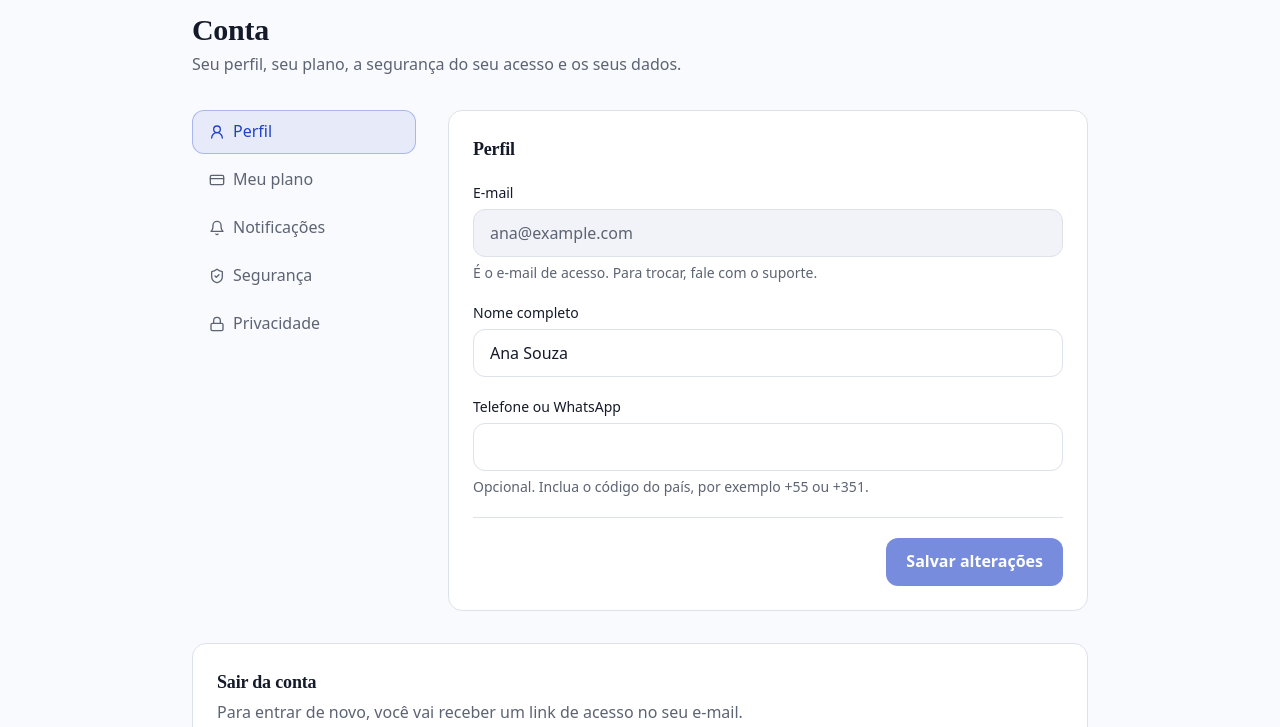
Test: SettingsPage — título, abas e perfil › telefone inválido mostra erro no campo e não salva
Type "meu número" into the field labelled "Telefone ou WhatsApp" at [768, 447], box [473,423,1063,471]
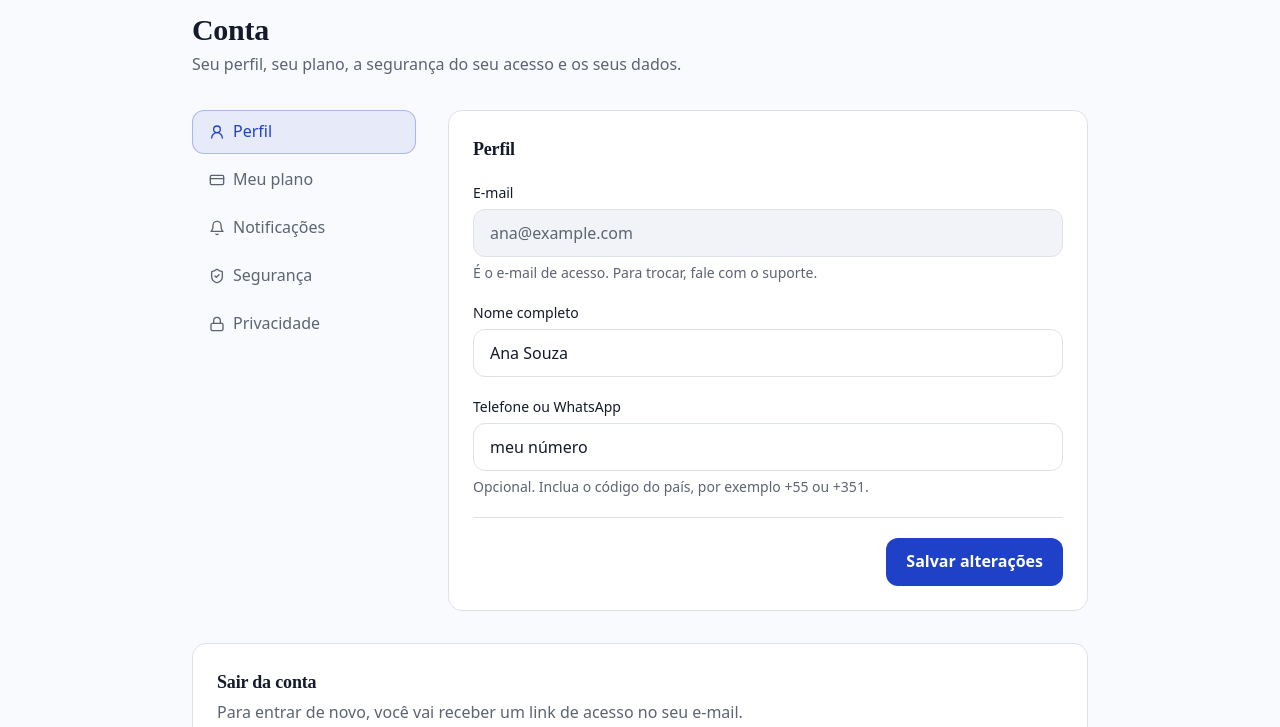
Click the button "Salvar alterações" at [975, 562], box [886,538,1063,586]
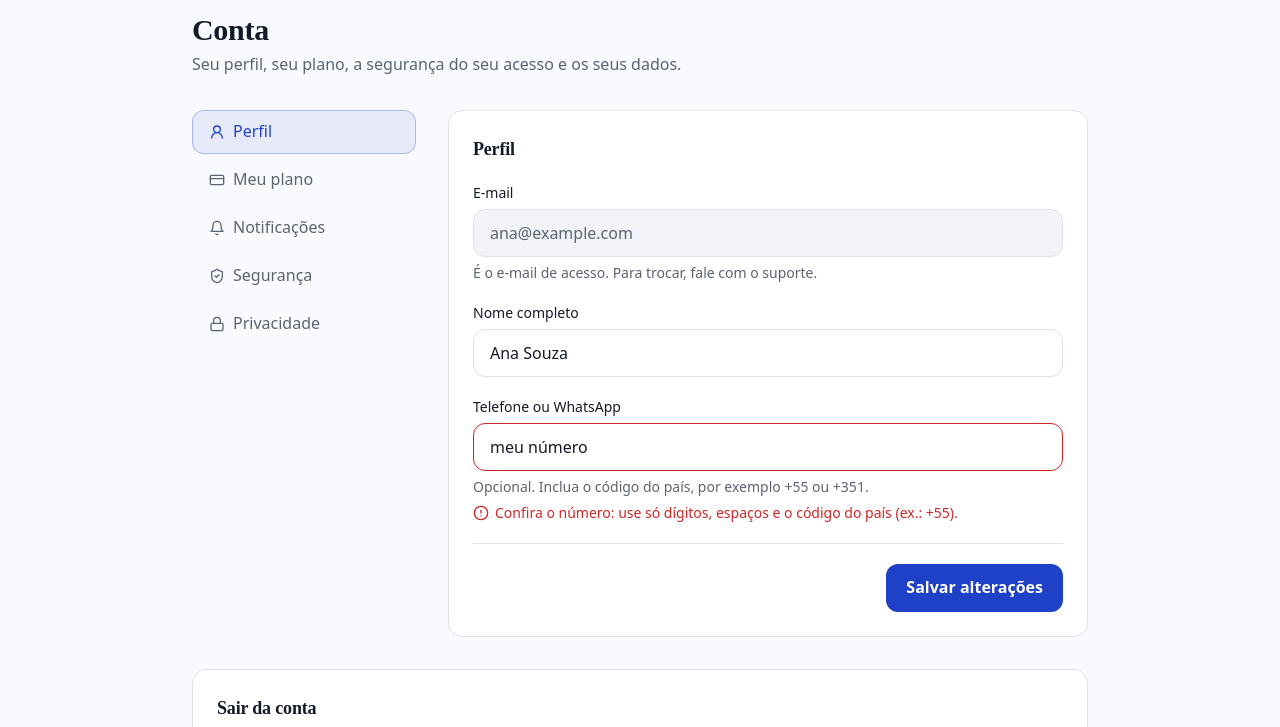
expect the message shows "Confira o número": met, box [495,503,958,522]
